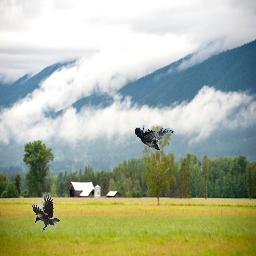Crow: (32, 192, 60, 232), (135, 125, 175, 151)
